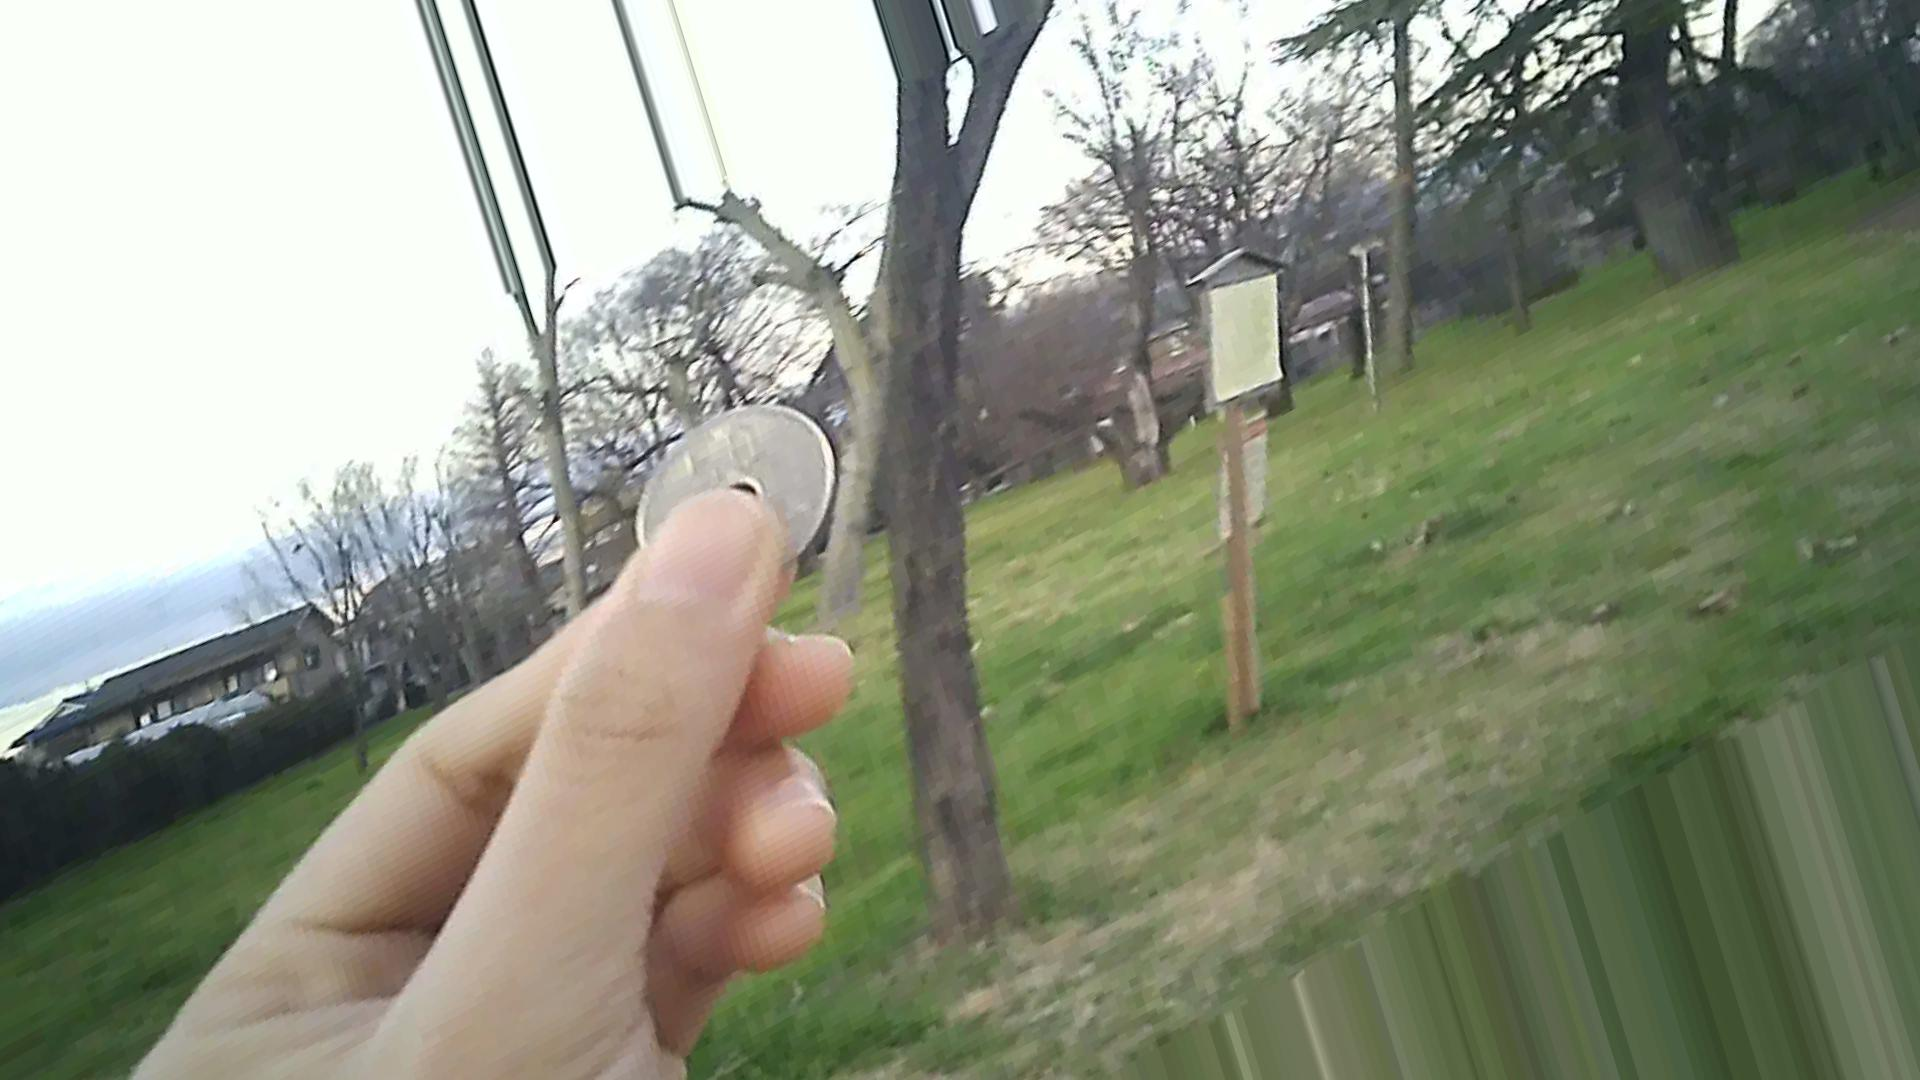50 Yen: (628, 404, 825, 556)
